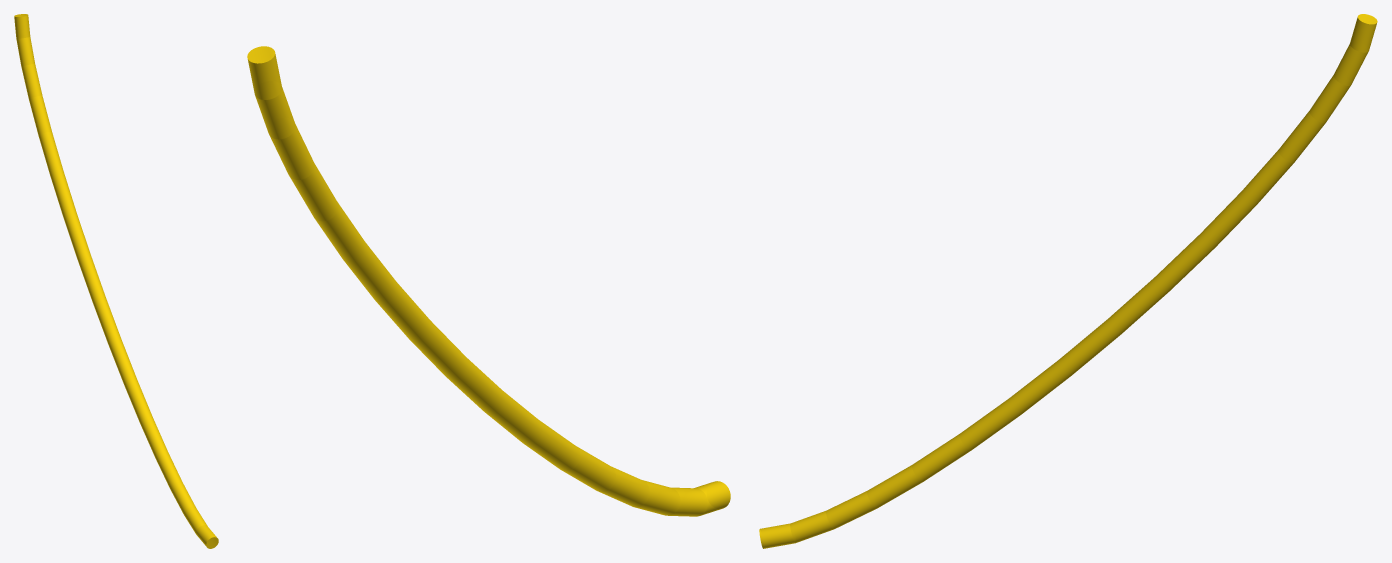
Rendered from Event_421364160_track_29.fbx.
The picture shows the model from 3 angles, left to right: view 1: azimuth 30°, elevation 25°; view 2: azimuth 150°, elevation 25°; view 3: azimuth 270°, elevation 25°; orthographic projection. The views are drawn at different scales.
Parts seen in each view (by area): view 1: Model; view 2: Model; view 3: Model.
Boxes of the visible parts, x1,y1,x2,y2 form: Model: (14, 14, 218, 548); Model: (247, 46, 730, 516); Model: (759, 14, 1377, 548).
Size of the model in its own units: 0.1007 by 1.17 by 1.21.
